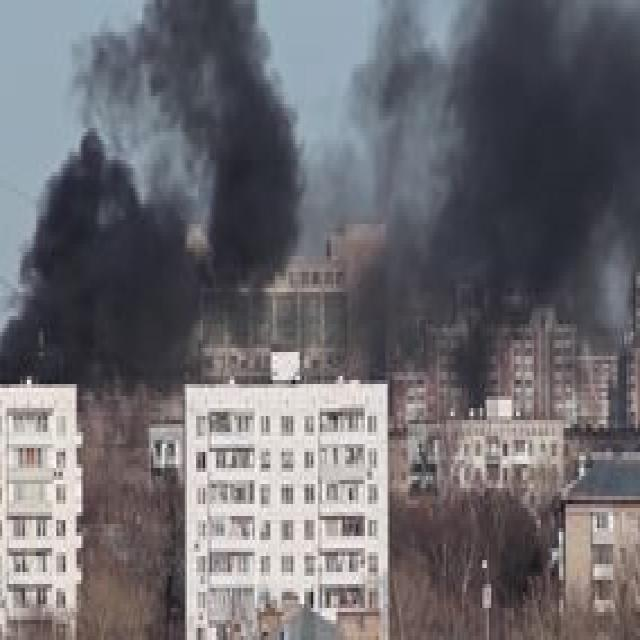smoke: (476, 27, 632, 245), (30, 204, 176, 361), (214, 66, 288, 279)
